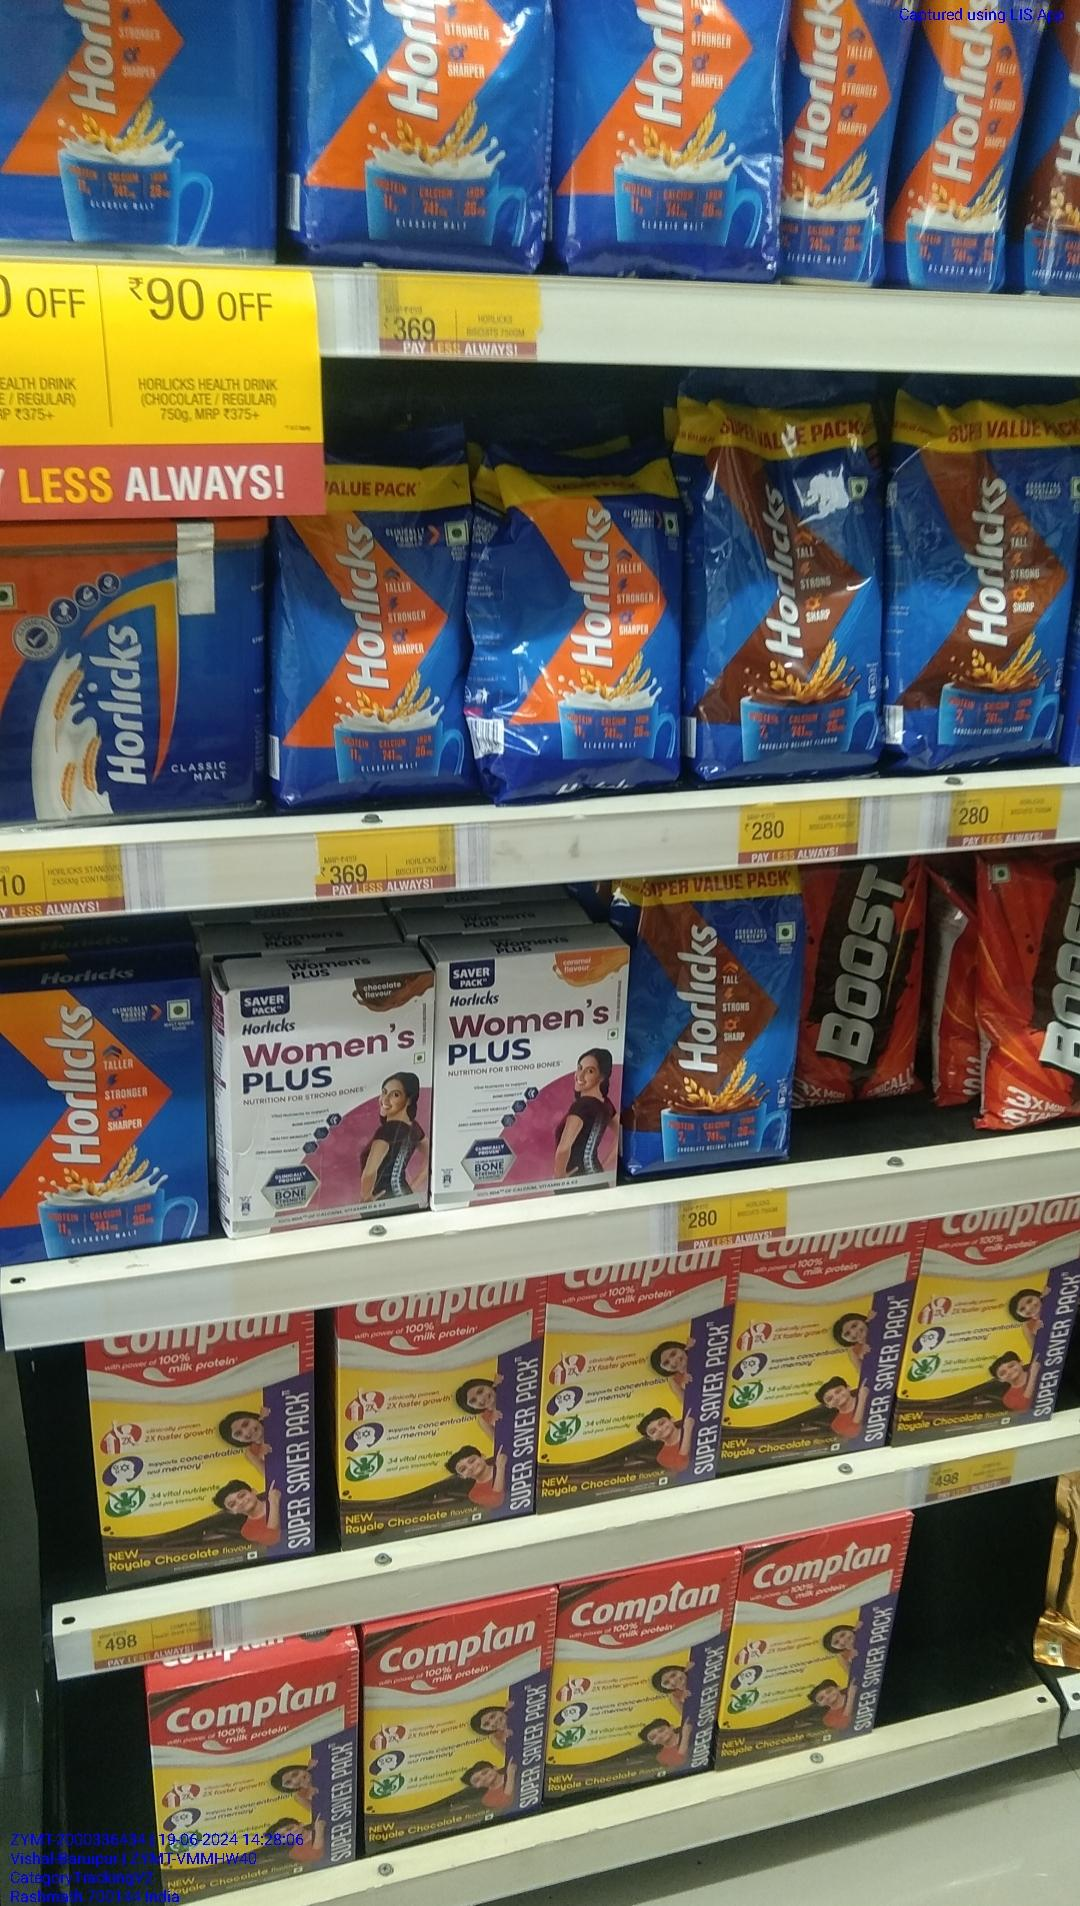COMPLAN_CHOCOLATE_1_KG_PACK: (96, 1322, 321, 1585), (156, 1647, 350, 1906), (338, 1292, 535, 1532), (737, 1503, 902, 1774), (369, 1588, 535, 1854), (733, 1221, 907, 1474), (910, 1194, 1080, 1445), (546, 1261, 721, 1503), (559, 1563, 721, 1797)
HORLICK_CHOCOLATE_750_G_POUCH: (902, 393, 1080, 784), (698, 390, 869, 778)
HORLICK_CLASSIC_MALT_500_G_JAR: (911, 0, 1034, 297), (793, 0, 891, 280)
HORLICK_CLASSIC_MALT_750_G_POUCH: (488, 432, 682, 791), (292, 435, 466, 797)
HORLICK_MALT_1_KG_CONTAINER: (0, 521, 261, 821)
